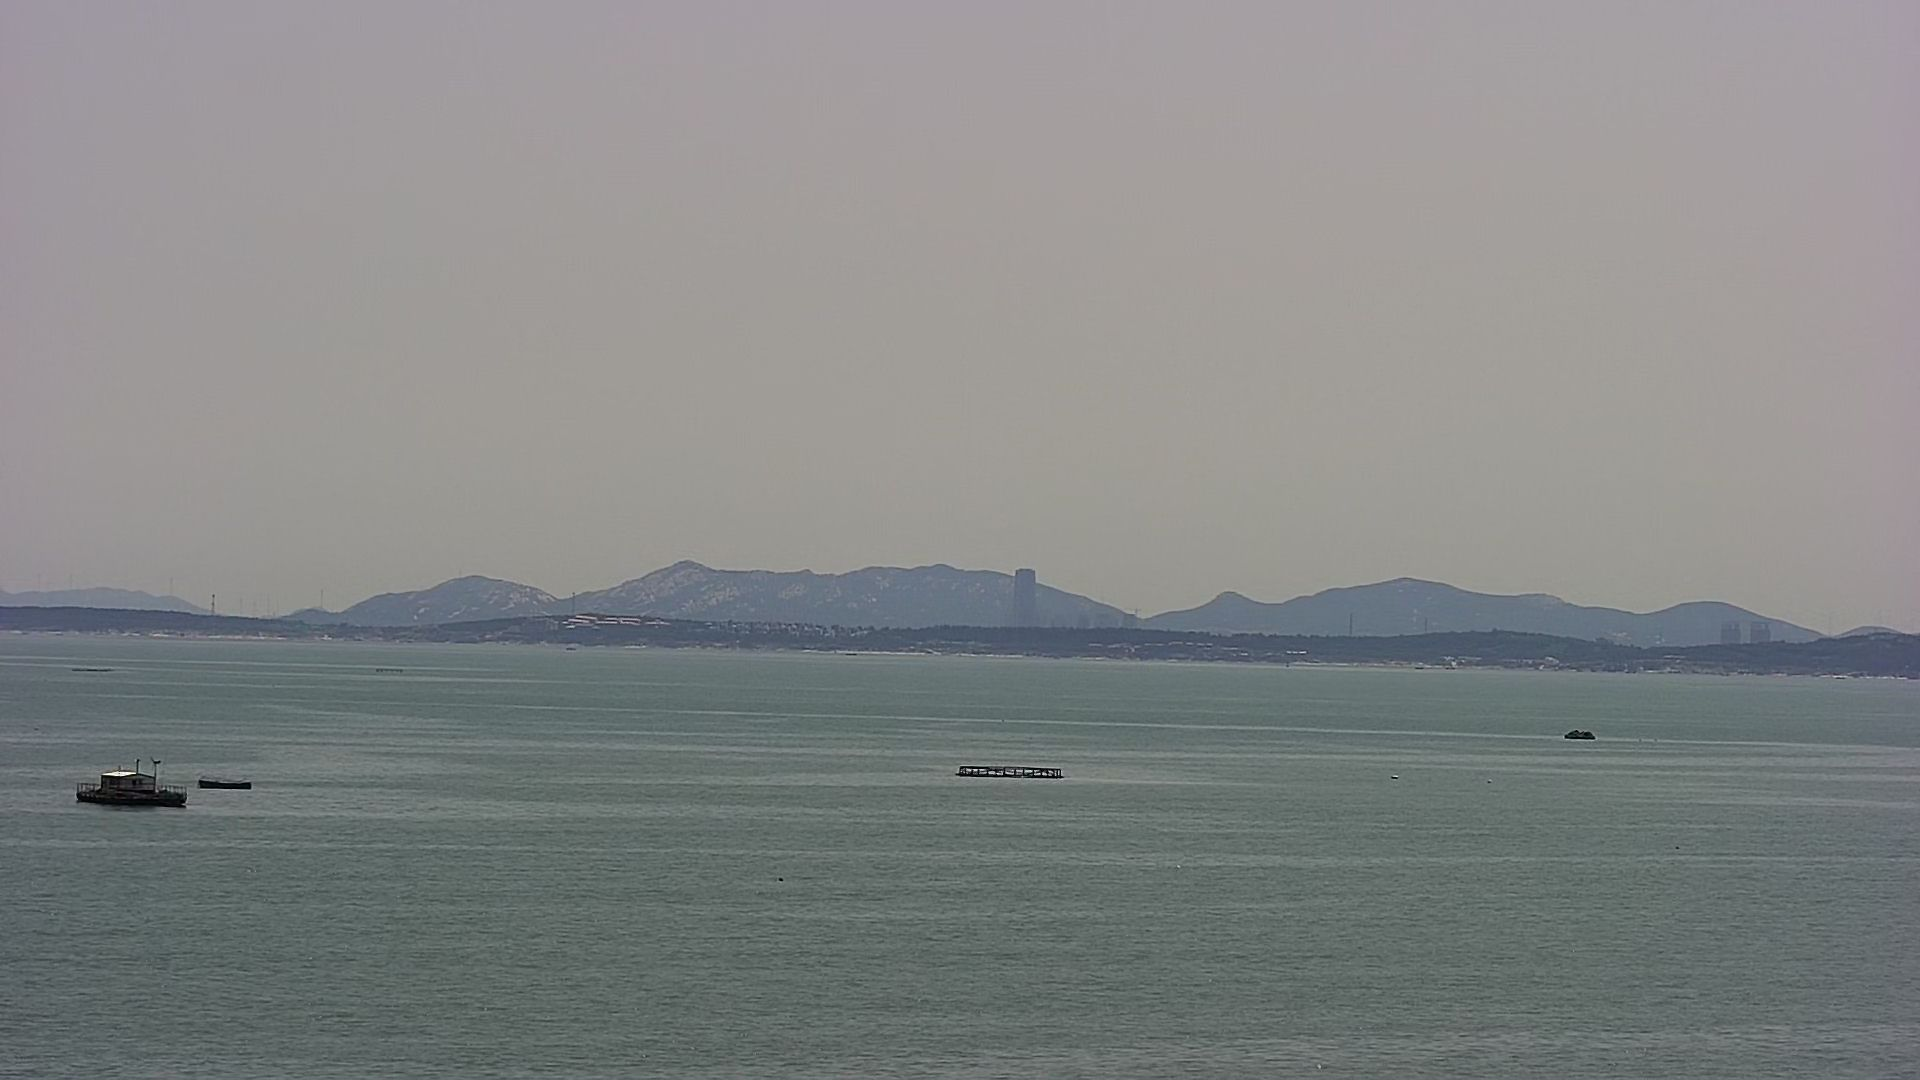boat: (196, 775, 258, 790)
platform: (73, 760, 189, 811), (947, 764, 1064, 781)
rubbish: (1564, 728, 1596, 742)
